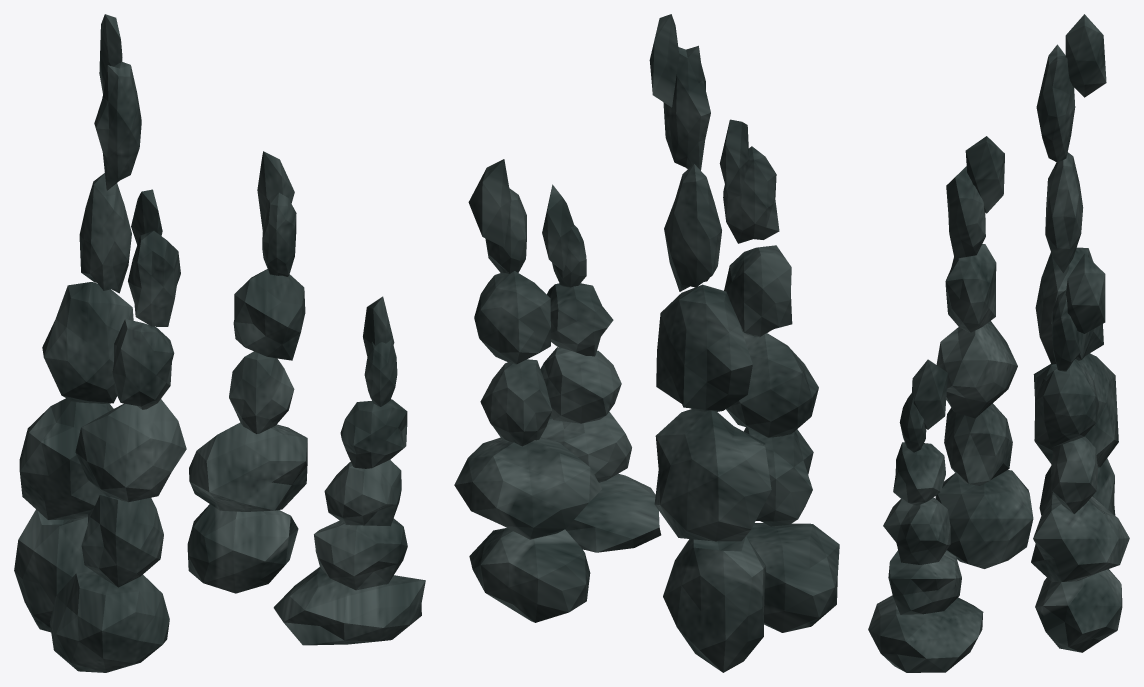
The model's file is 0069_rock_spire_19.glb.
The picture shows the model from 3 angles, left to right: view 1: azimuth 30°, elevation 25°; view 2: azimuth 150°, elevation 25°; view 3: azimuth 270°, elevation 25°; orthographic projection. The views are drawn at different scales.
Visible parts, largest first — view 1: stone_dark; view 2: stone_dark; view 3: stone_dark.
Boxes of the visible parts, bbox=[...] form: stone_dark: bbox=[14, 14, 425, 672]; stone_dark: bbox=[454, 14, 839, 672]; stone_dark: bbox=[868, 14, 1129, 672].
Size of the model in its own units: 2.01 by 3.55 by 1.46.
Materials: 1 (1 with a texture image).
